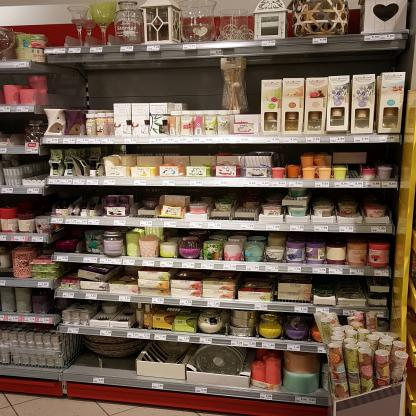Void: (69, 71, 224, 101), (69, 336, 136, 376), (318, 276, 364, 296), (277, 148, 301, 162)
